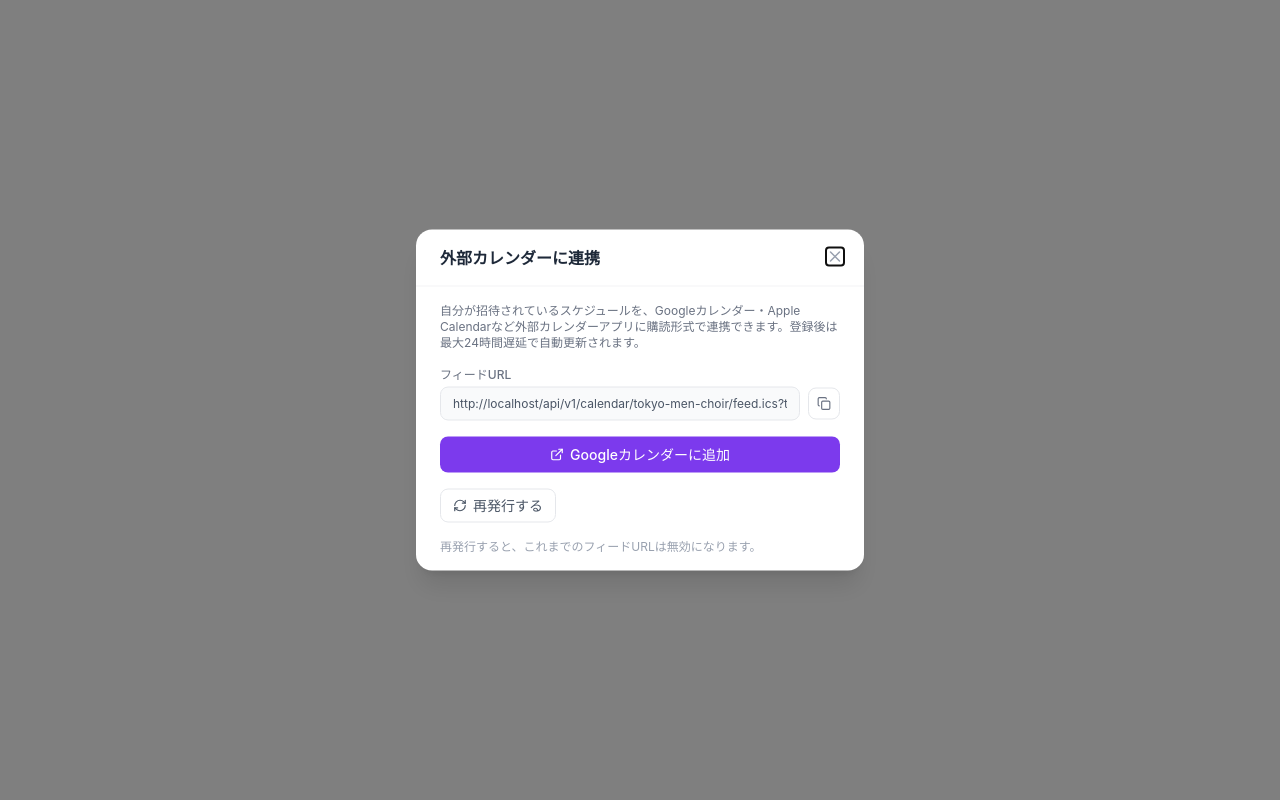
Scenario: CalendarFeedModal（共通モーダル） › URL をコピーすると「コピーしました」が読み上げられる
Click the button named "URLをコピー": (824,404) x1=808 y1=388 x2=840 y2=420
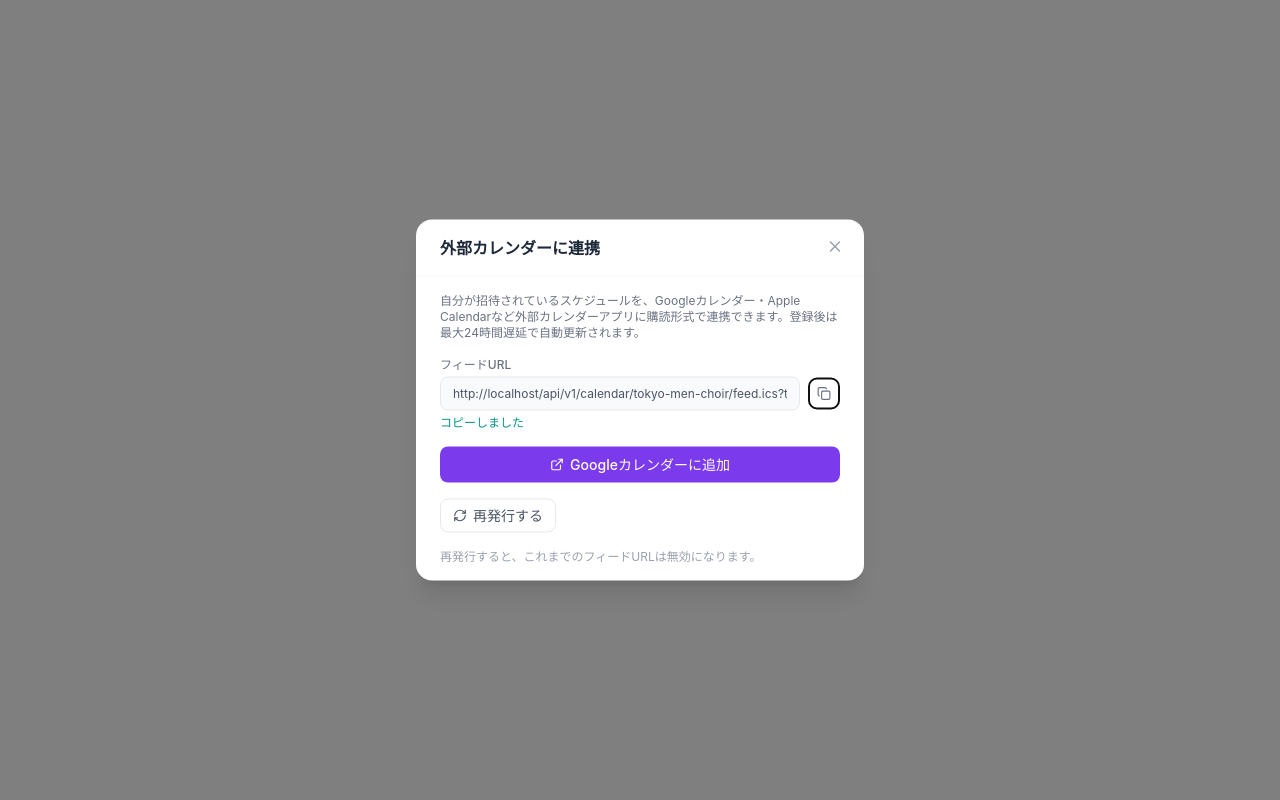
Expected: the message reads "コピーしました", x1=440 y1=414 x2=524 y2=430
